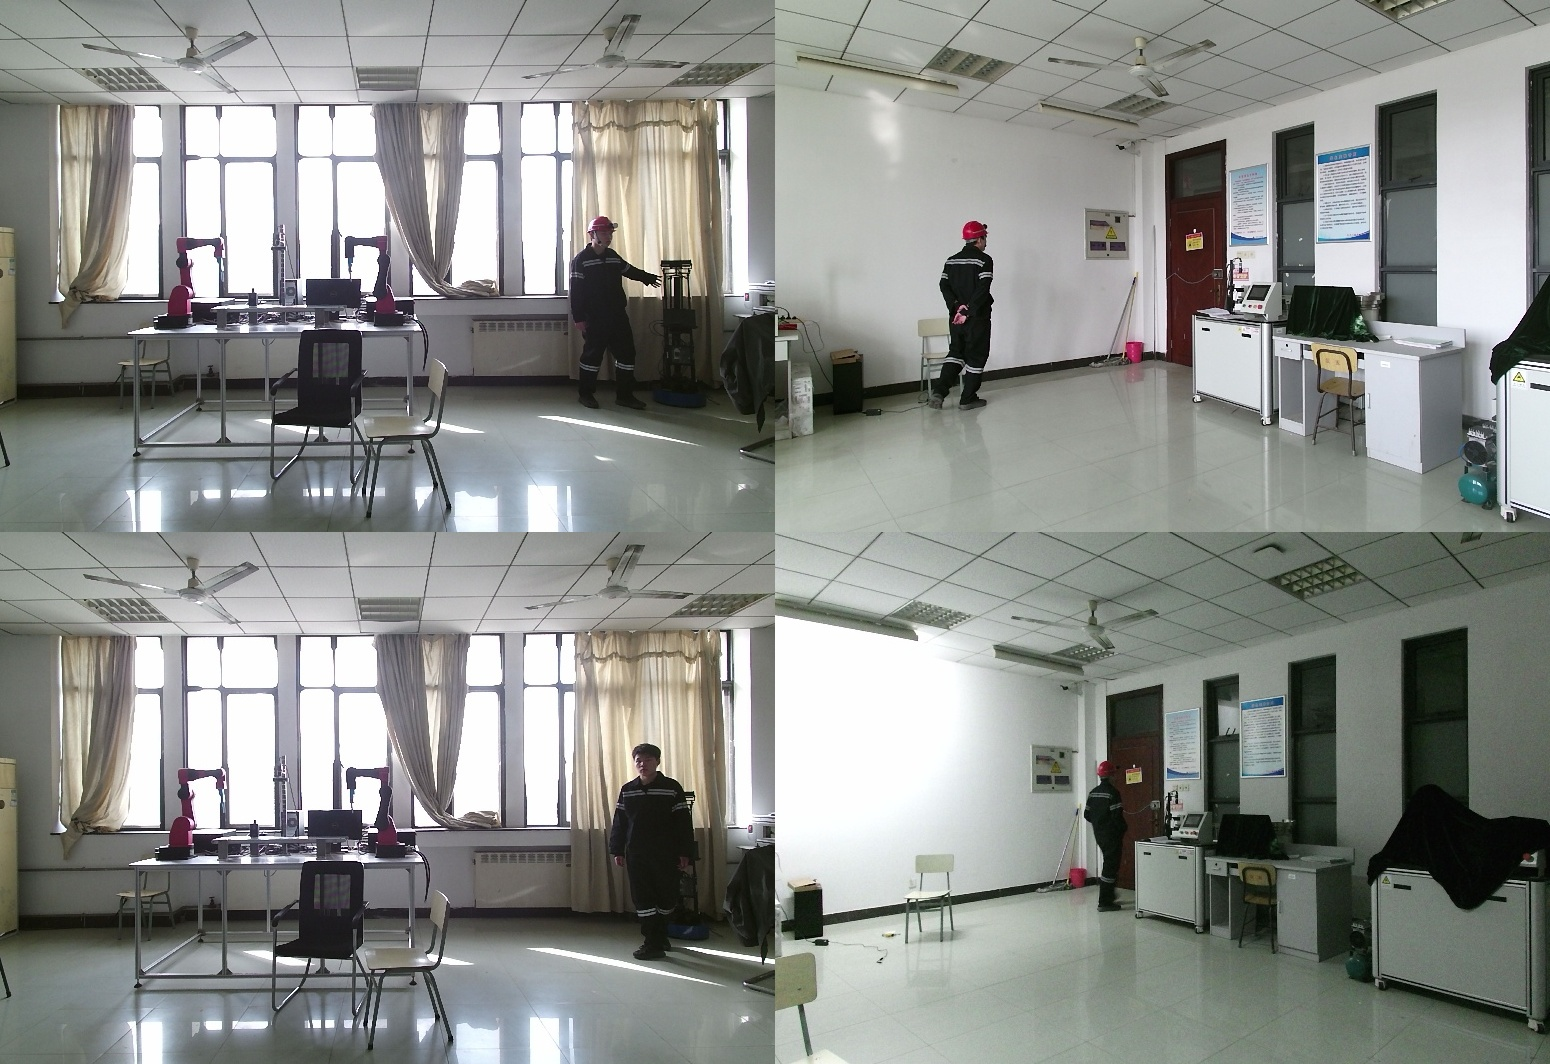person: (614, 745, 706, 962), (568, 215, 662, 415), (921, 220, 996, 420), (1076, 760, 1129, 917)
